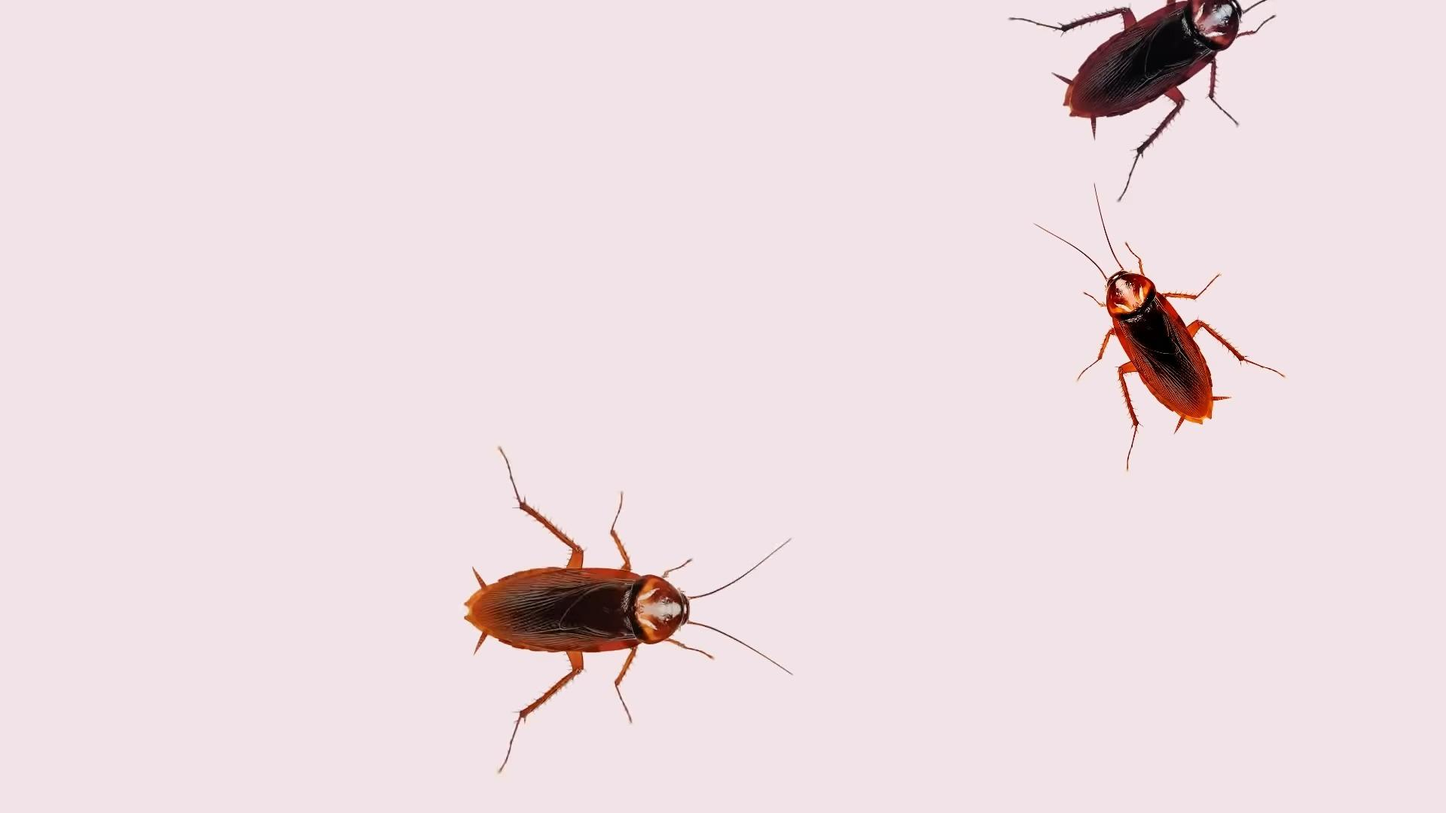cockroach: (455, 468, 747, 733), (1006, 0, 1277, 184), (1068, 230, 1265, 450)
